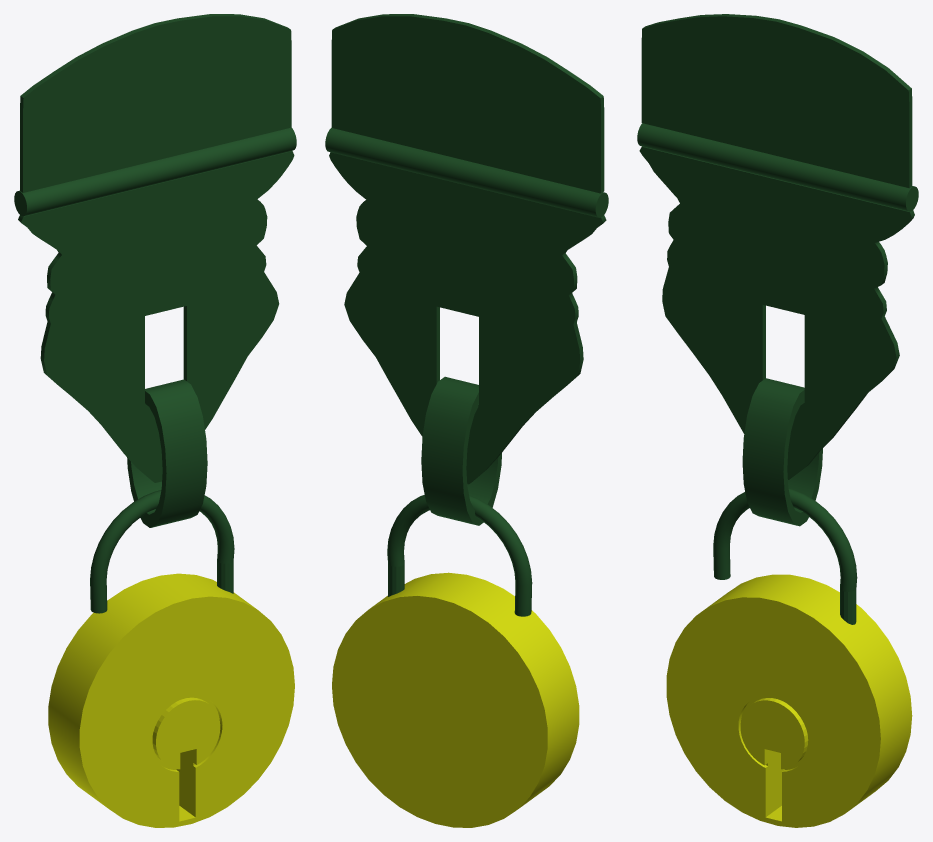
File: Locks.FBX
The picture shows the model from 3 angles, left to right: view 1: azimuth 30°, elevation 25°; view 2: azimuth 150°, elevation 25°; view 3: azimuth 330°, elevation 25°; orthographic projection.
Visible parts, largest first — view 1: Box014; view 2: Box014; view 3: Box014.
Boxes of the visible parts, box(x1,y1,x2,y2) form: Box014: box(14, 14, 296, 827); Box014: box(325, 14, 608, 827); Box014: box(637, 14, 918, 827).
Size of the model in its own units: 7.16 by 19.81 by 1.82.
